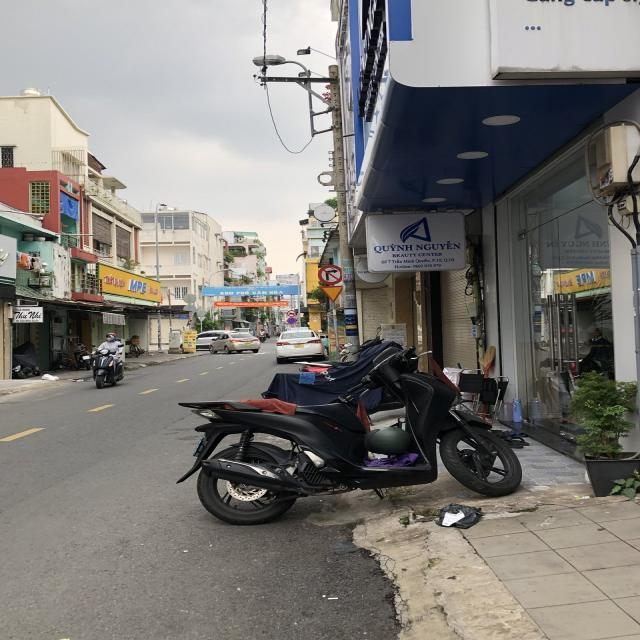Bien bao cam re phai: (316, 263, 345, 286)
Bien bao giao nhau voi duong uu tien: (314, 285, 348, 305)
